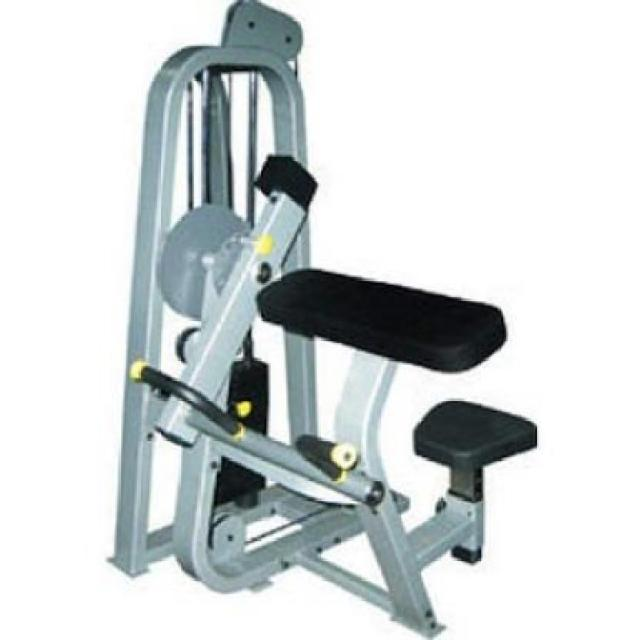arm curl machine: (110, 0, 538, 637)
